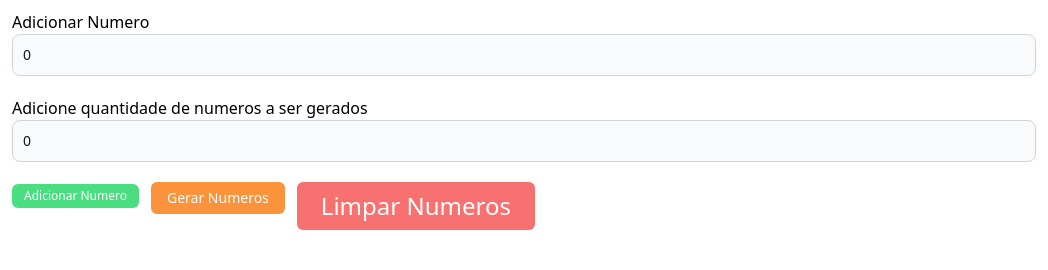
it: Home › Deve adicionar  um numero
The image size is (1048, 270).
Replace the text in the number field with test id "inputNumber" with "23" at (524, 55), box [12,34,1036,76]
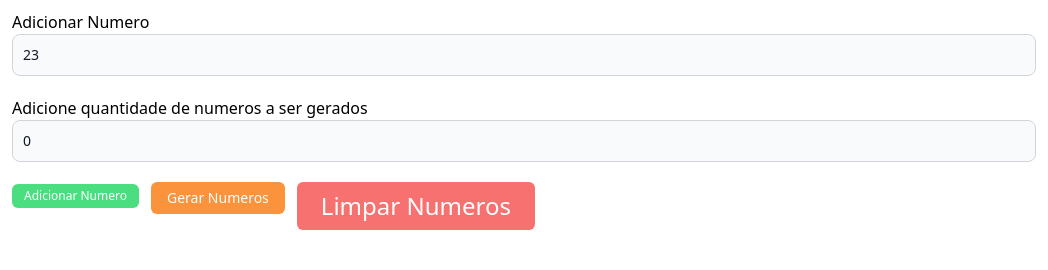
Click the button "Adicionar Numero" at (76, 196), box [12,184,139,208]
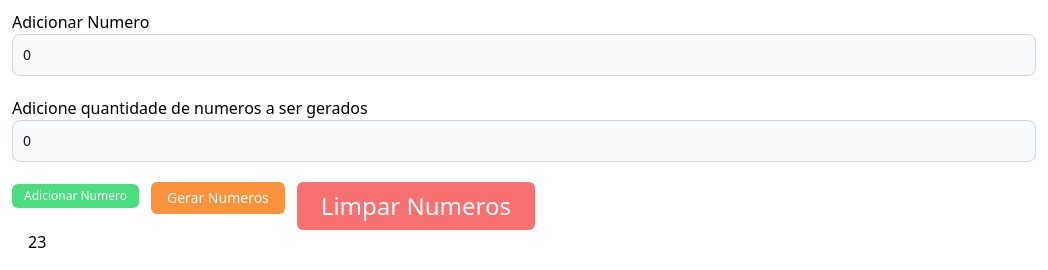
Result: the text "23" is shown at [28,231,46,253]
